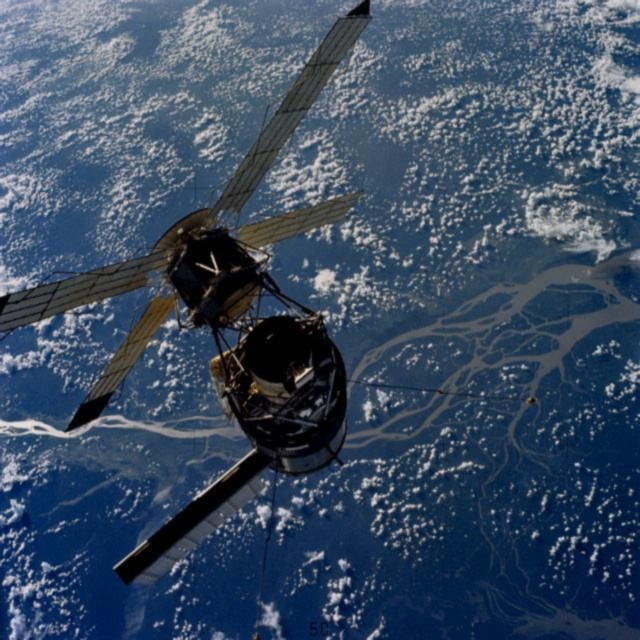medium_debris: (0, 0, 381, 610)
